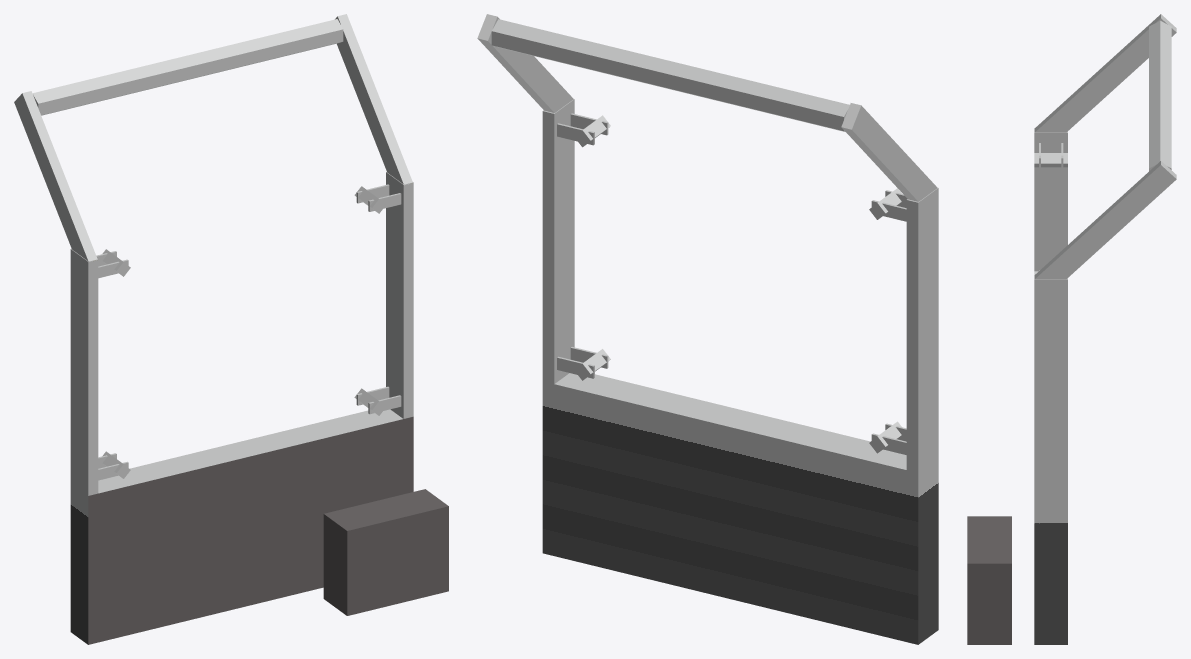
The model's file is electric_fence_wall_left.obj.
3 renders of one model, left to right at view 1: azimuth 30°, elevation 25°; view 2: azimuth 150°, elevation 25°; view 3: azimuth 270°, elevation 25°, orthographic. The views are drawn at different scales.
Visible parts, largest first — view 1: wall_r; view 2: wall_r; view 3: wall_r.
Boxes of the visible parts, x1=… form: wall_r: x1=14, y1=14, x2=448, y2=644; wall_r: x1=477, y1=14, x2=938, y2=644; wall_r: x1=967, y1=14, x2=1176, y2=644.
Bounding box in the file's own units: 1 × 1.48 × 0.585.
